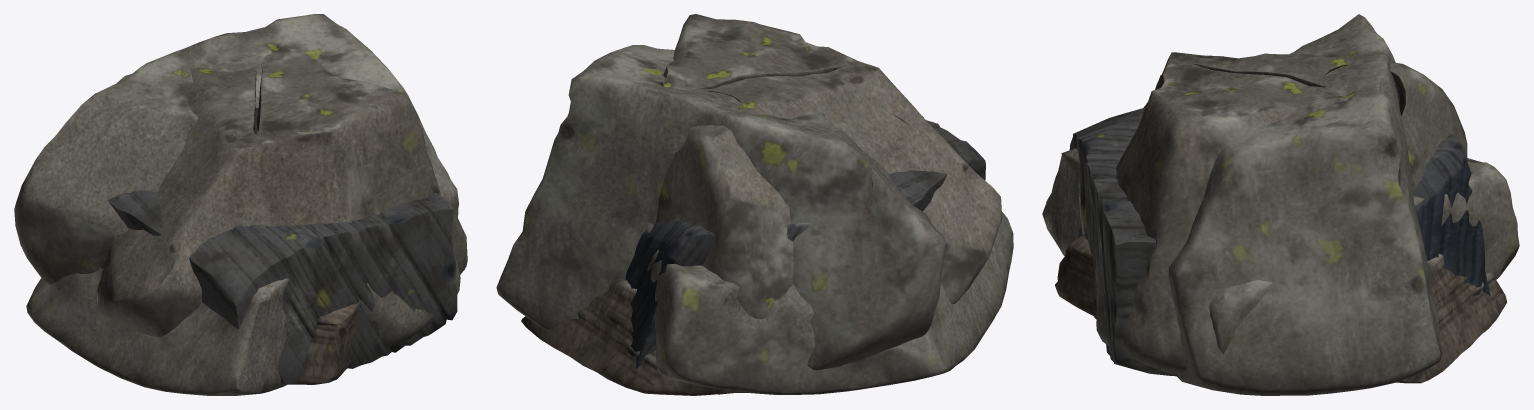
Rendered from alpine-boulders.glb.
3 renders of one model, left to right at view 1: azimuth 30°, elevation 25°; view 2: azimuth 150°, elevation 25°; view 3: azimuth 270°, elevation 25°, orthographic. The views are drawn at different scales.
Parts seen in each view (by area): view 1: boulder_granite_b, boulder_granite_c, boulder_slate, boulder_granite_a, boulder_iron; view 2: boulder_granite_c, boulder_granite_b, boulder_granite_a, boulder_slate, boulder_iron; view 3: boulder_granite_c, boulder_granite_b, boulder_slate, boulder_granite_a, boulder_iron.
Part boxes in pixels (x1,y1,x2,y2): boulder_granite_b: [96, 45, 460, 348]; boulder_granite_c: [14, 14, 467, 284]; boulder_slate: [108, 190, 457, 384]; boulder_granite_a: [26, 209, 458, 395]; boulder_iron: [291, 301, 359, 384]; boulder_granite_c: [496, 45, 945, 370]; boulder_granite_b: [656, 14, 1002, 319]; boulder_granite_a: [646, 211, 1013, 394]; boulder_slate: [625, 116, 985, 394]; boulder_iron: [521, 278, 747, 395]; boulder_granite_c: [1168, 14, 1442, 395]; boulder_granite_b: [1095, 52, 1467, 374]; boulder_slate: [1069, 107, 1490, 376]; boulder_granite_a: [1042, 148, 1519, 354]; boulder_iron: [1055, 234, 1506, 383].
Size of the model in its own units: 3.22 by 1.93 by 3.19.
Materials: 1 (1 with a texture image).
